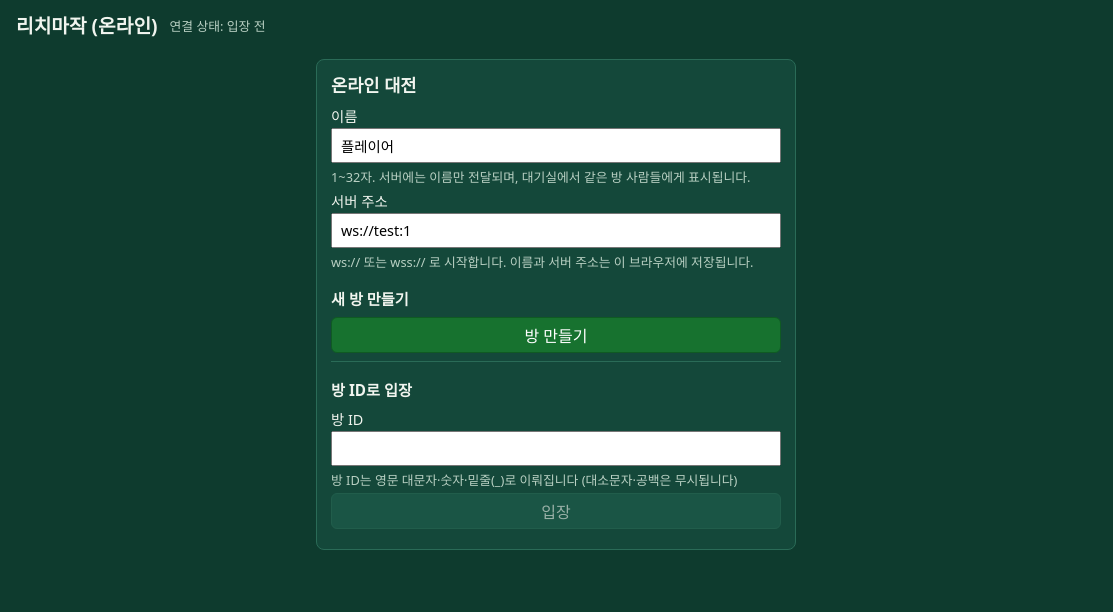
Scenario: App: 연결 UX 화면 › 없는 방 입장 실패(unknown_room) 복귀 후 헤더는 연결 끊김이 아니라 입장 전이다
Type "NOROOM" into the field labelled "방 ID" at point(556, 448), box left=331, top=431, right=781, bottom=466
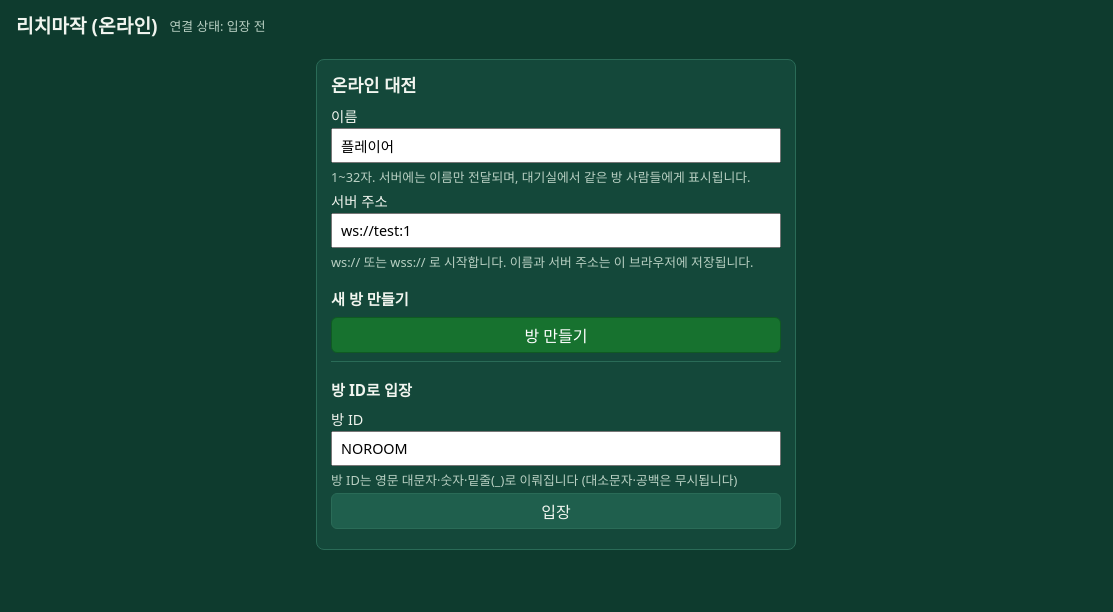
Click the button "입장" at point(556, 511), box left=331, top=493, right=781, bottom=529
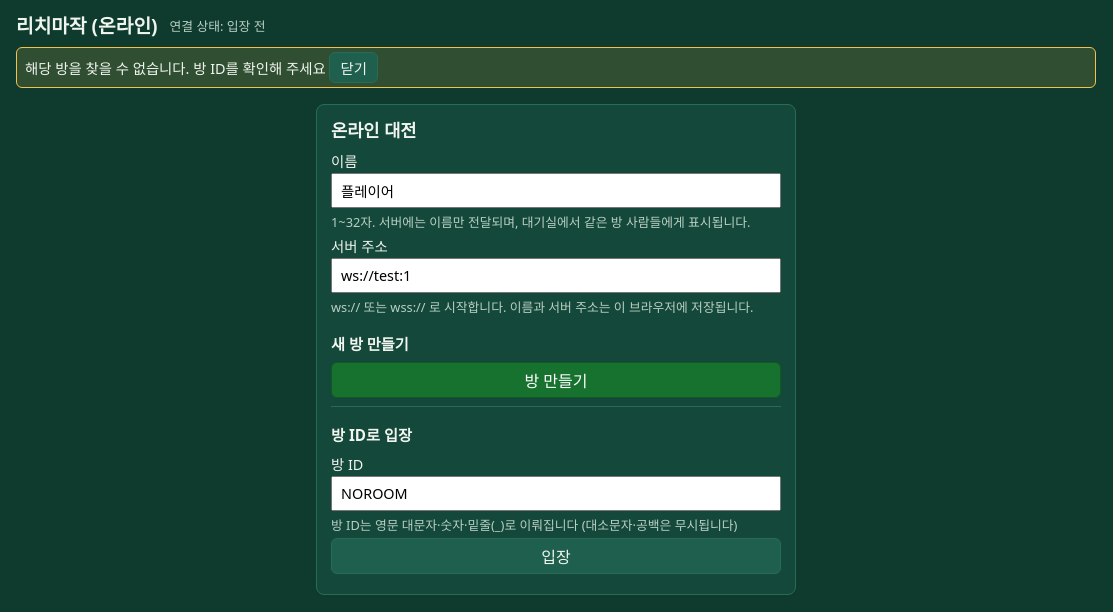
Expected: the text with test id "server-status" shows "입장 전", left=227, top=16, right=266, bottom=34
Result: the text "해당 방을 찾을 수 없습니다. 방 ID를 확인해 주세요" is shown at left=25, top=59, right=326, bottom=78
